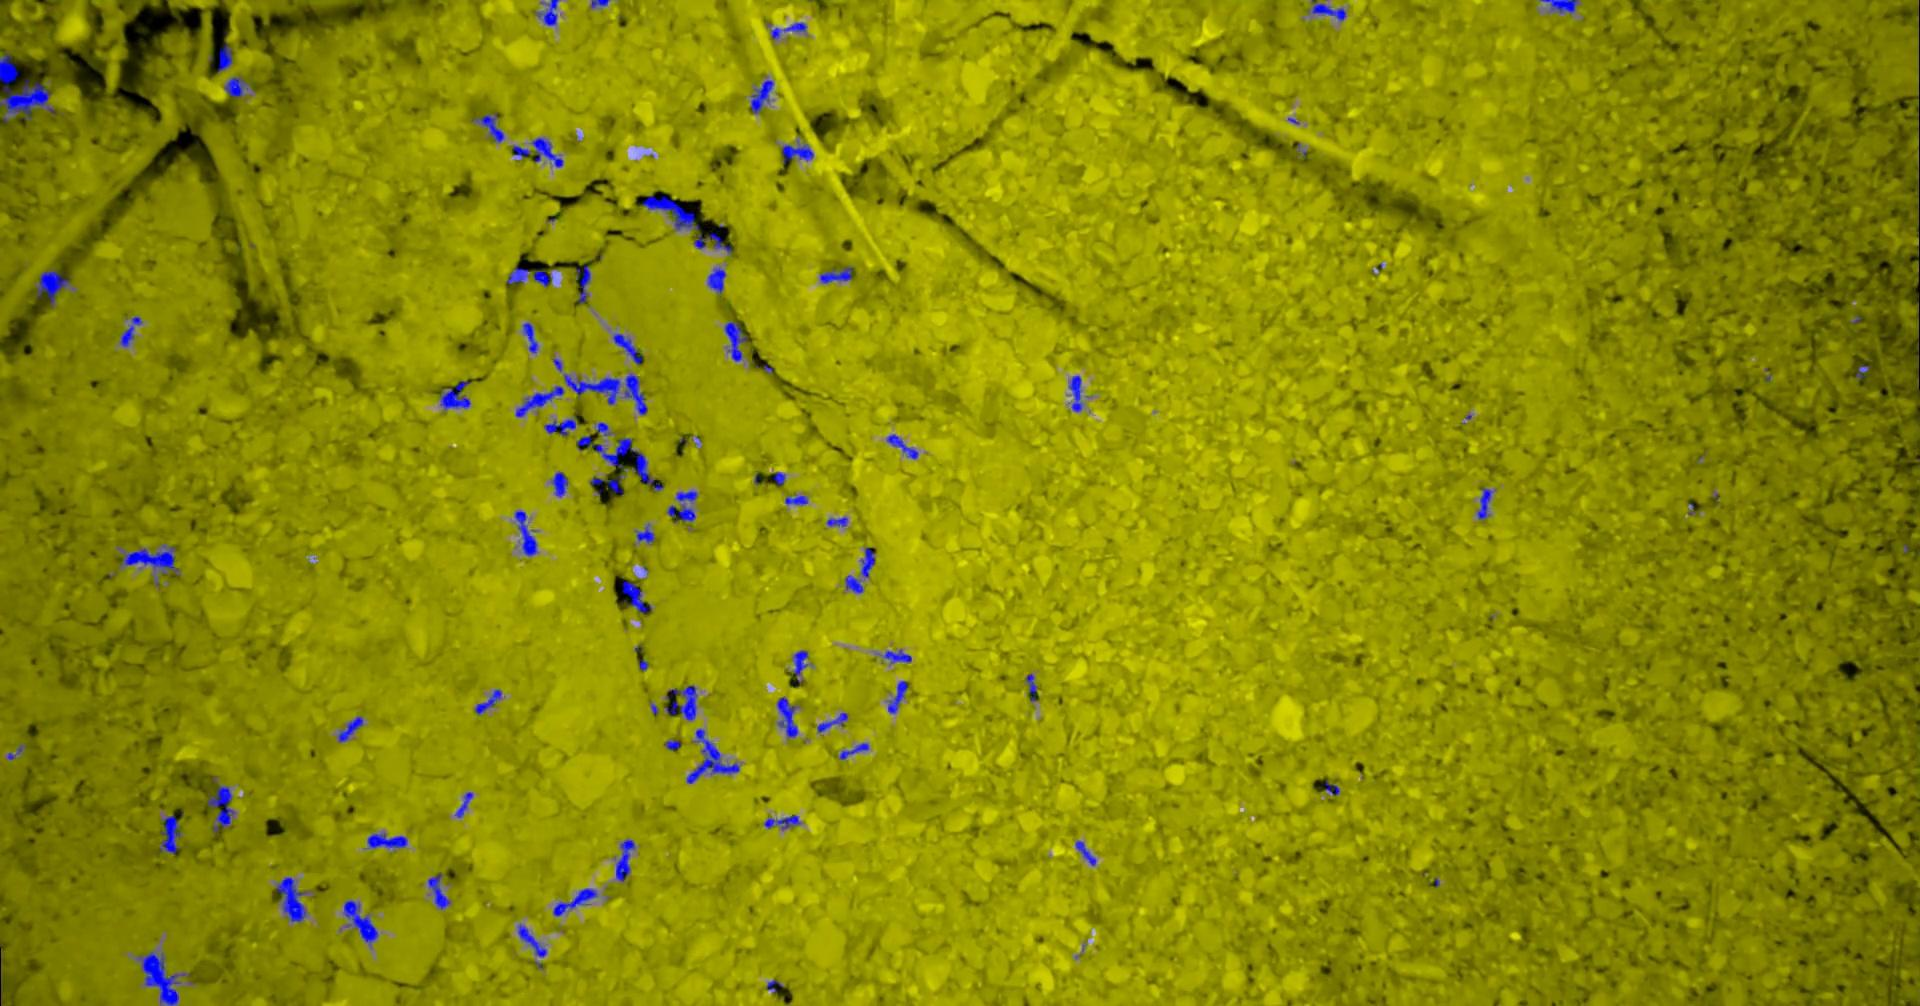ant: (636, 194, 731, 253), (577, 434, 663, 490), (686, 728, 739, 782), (137, 951, 189, 1005), (119, 544, 179, 575), (563, 373, 620, 404), (343, 901, 377, 948), (516, 385, 563, 417), (276, 876, 306, 921), (207, 784, 234, 832), (552, 888, 597, 916), (36, 269, 69, 306), (665, 685, 696, 720), (514, 511, 537, 555), (665, 490, 697, 522), (621, 580, 651, 614), (623, 373, 648, 414), (612, 333, 643, 365), (517, 923, 546, 956), (724, 320, 747, 361), (439, 379, 470, 409), (531, 137, 563, 166), (472, 113, 503, 142), (776, 696, 797, 737), (159, 815, 182, 854), (427, 873, 450, 909), (749, 79, 773, 113), (615, 840, 634, 882), (781, 140, 813, 164), (886, 434, 918, 459), (474, 688, 502, 714), (1310, 0, 1345, 20), (337, 716, 363, 742), (119, 316, 142, 345), (589, 474, 623, 493), (888, 680, 907, 713), (367, 833, 408, 848), (770, 22, 806, 38), (819, 265, 852, 283), (575, 265, 590, 304), (817, 713, 847, 732), (223, 76, 251, 97), (543, 417, 575, 434), (536, 0, 557, 25), (1476, 486, 1492, 520), (792, 650, 808, 686), (763, 814, 799, 829), (839, 742, 869, 760), (1068, 375, 1082, 412), (1539, 0, 1577, 13), (1076, 840, 1095, 865), (707, 267, 725, 293), (455, 791, 472, 817), (522, 323, 537, 352), (505, 265, 528, 285), (217, 43, 232, 71), (860, 547, 874, 577), (551, 471, 568, 495), (883, 649, 910, 663), (635, 523, 654, 542), (844, 575, 862, 593), (1025, 673, 1036, 700), (532, 271, 551, 286), (783, 494, 808, 504), (512, 145, 530, 158), (825, 516, 847, 526), (766, 979, 782, 992), (596, 422, 611, 434), (1855, 365, 1868, 379), (772, 471, 785, 485), (1324, 781, 1338, 794), (664, 739, 681, 749), (590, 0, 610, 8)
